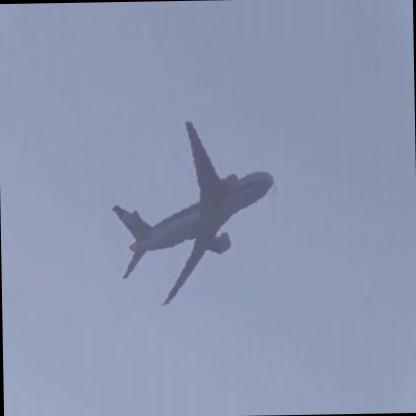plane: (97, 113, 285, 308)
